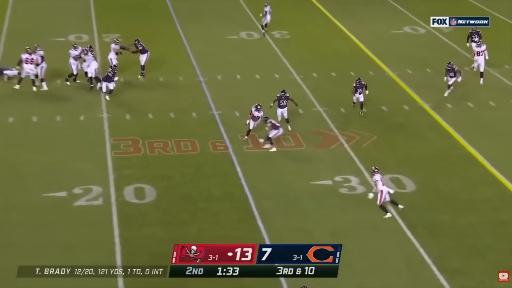Helmet: (371, 167, 379, 176), (109, 65, 118, 71), (281, 89, 287, 98), (82, 48, 89, 55), (447, 62, 454, 69), (26, 46, 32, 54), (356, 78, 362, 86), (89, 45, 94, 54), (134, 39, 141, 45), (72, 44, 78, 50), (256, 103, 261, 110), (114, 39, 120, 44), (476, 40, 481, 46), (35, 45, 40, 50), (265, 116, 269, 122), (265, 3, 269, 7), (473, 27, 477, 31)
Jersey: (21, 54, 37, 69), (250, 105, 263, 122), (277, 94, 290, 109), (373, 174, 385, 190), (102, 69, 116, 82), (474, 44, 486, 59), (353, 82, 365, 95), (69, 48, 81, 60), (468, 31, 481, 42), (135, 43, 148, 54), (35, 50, 45, 64), (267, 120, 281, 130), (446, 66, 457, 78), (110, 44, 120, 55), (84, 52, 94, 62), (264, 6, 271, 16)
Player: (369, 167, 403, 217), (271, 90, 297, 130), (14, 47, 37, 91), (83, 46, 101, 89), (472, 41, 488, 84), (65, 44, 82, 84), (244, 104, 263, 139), (132, 39, 149, 78), (264, 117, 283, 151), (444, 62, 462, 96), (35, 45, 48, 90), (108, 39, 130, 65), (353, 78, 368, 114), (102, 65, 117, 99), (261, 2, 271, 35), (467, 28, 482, 48), (0, 68, 20, 81)
